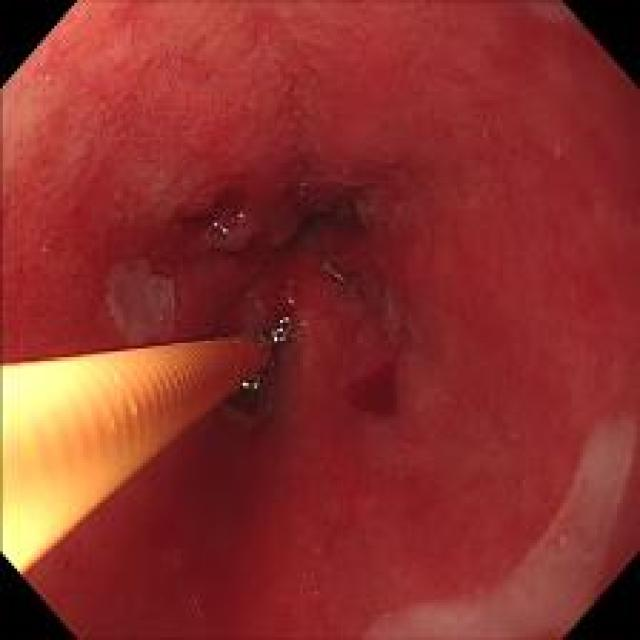bubbles: (335, 205, 350, 219), (480, 126, 490, 138), (42, 244, 51, 255)
color misalignment: (238, 374, 265, 399), (228, 204, 254, 229), (210, 210, 231, 239), (319, 262, 349, 282), (506, 430, 518, 441), (552, 145, 561, 156), (170, 58, 181, 66)
instrument: (1, 319, 292, 575)
saturation: (1, 352, 122, 574)
specularity: (265, 320, 295, 350)
